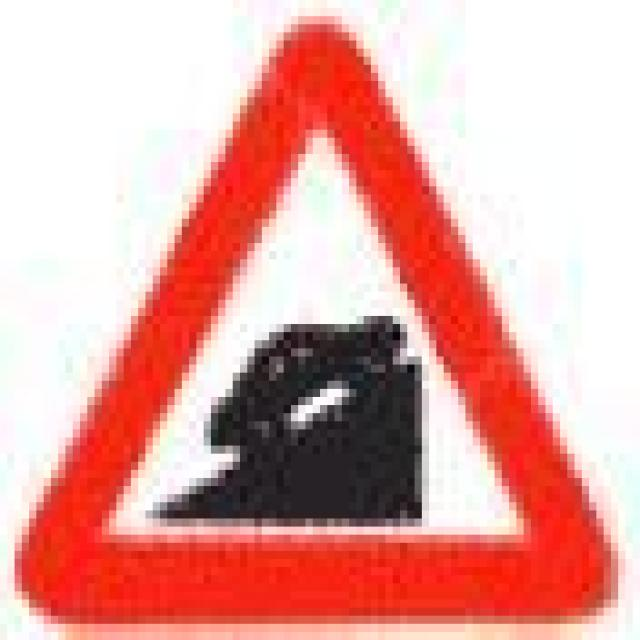speed_limit_70: (15, 16, 618, 632)
